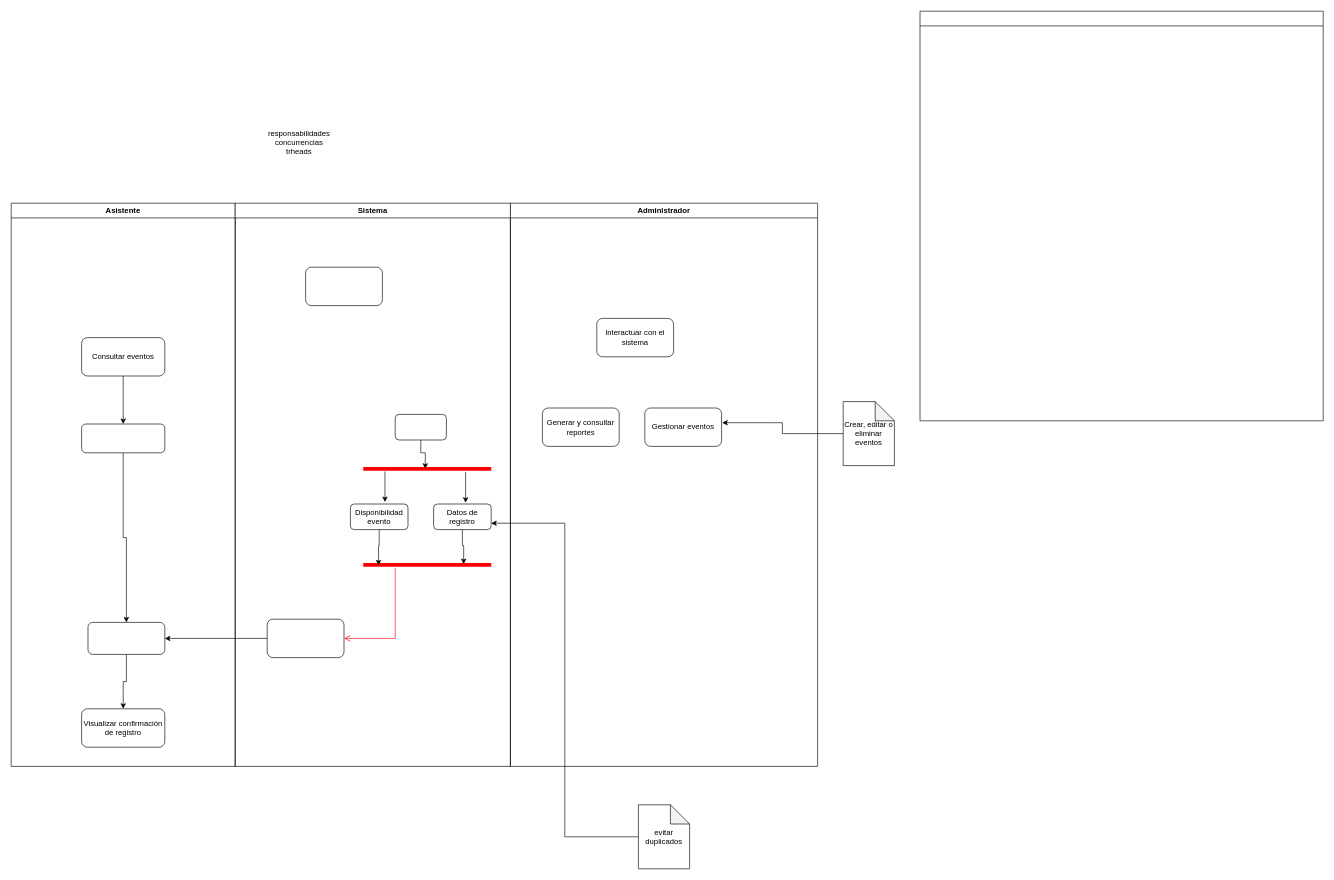
The diagram is 1334 pixels wide and 880 high, and some of its shapes have lost their labels. Here are the shapes that lost their labels. From the top down, the centre of each, then its label:
At pixel 1121 216: "Potro-Pass".
At pixel 343 286: "inicio sisstema".
At pixel 123 438: "Verifica si hay cupo para el evento".
At pixel 420 427: "Validación".
At pixel 126 638: "Registrar asistencia al evento".
At pixel 305 638: "generación automática de confirmación".
